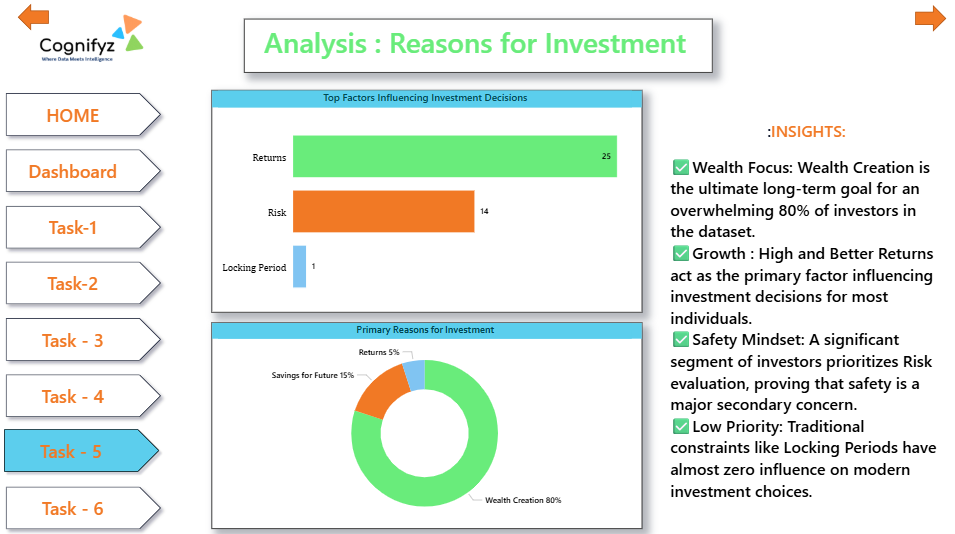

What the dashboard file says about the page in this screenshot:
{"tool":"powerbi","page":{"name":"Task - 5","canvas":[1280,720],"ordinal":6},"visuals":[{"type":"image","box":[0,0,226.7,120],"z":0},{"type":"shape","box":[25.7,5.7,41.4,35.7],"z":1000},{"type":"shape","box":[1221.4,7.1,41.4,35.7],"z":2000},{"type":"textbox","box":[326.7,25,625,71.7],"z":3000},{"type":"textbox","box":[890,155,373.3,550],"z":4000},{"type":"pageNavigator","box":[0,115,225,605],"z":5000},{"type":"clusteredBarChart","title":"Top Factors Influencing Investment Decisions","fields":{"Category":["Data_set 2.Factor"],"Y":["CountNonNull(Data_set 2.Factor)"]},"box":[283.7,119.8,574.7,297.1],"z":6000},{"type":"donutChart","title":"Primary Reasons for Investment","fields":{"Category":["Data_set 2.Purpose"],"Y":["CountNonNull(Data_set 2.Purpose)"]},"box":[283.7,430.4,574.7,275.1],"z":7000}]}

Visuals, with their boxes in screenshot pixels (x1, y1, x2, y2), scaled from the page's 1280x720 canvas onto the 955x534 screenshot:
image: [left=0, top=0, right=169, bottom=89]
shape: [left=19, top=4, right=50, bottom=31]
shape: [left=911, top=5, right=942, bottom=32]
textbox: [left=244, top=19, right=710, bottom=72]
textbox: [left=664, top=115, right=943, bottom=523]
pageNavigator: [left=0, top=85, right=168, bottom=533]
"Top Factors Influencing Investment Decisions" clusteredBarChart: [left=212, top=89, right=640, bottom=309]
"Primary Reasons for Investment" donutChart: [left=212, top=319, right=640, bottom=523]
